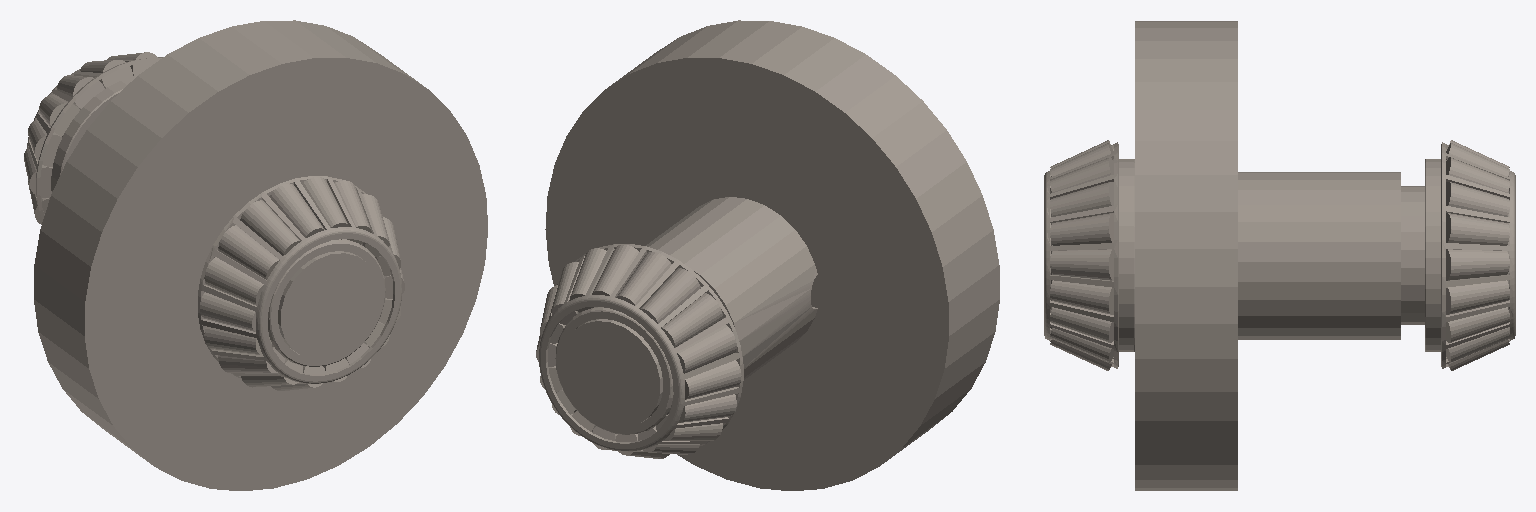
URDF robot description (smaller_shaft):
<?xml version="1.0" encoding="utf-8"?>
<!-- This URDF was automatically created by SolidWorks to URDF Exporter! Originally created by [author] ([email redacted]) 
     Commit Version: 1.6.0-1-g15f4949  Build Version: 1.6.7594.29634
     For more information, please see http://wiki.ros.org/sw_urdf_exporter -->
<robot
  name="smaller_shaft">
  <link
    name="base_link">
    <inertial>
      <origin
        xyz="2.0203E-05 0.03832 3.0078E-05"
        rpy="0 0 0" />
      <mass
        value="2.0706" />
      <inertia
        ixx="0.001325"
        ixy="1.2436E-06"
        ixz="-3.6372E-07"
        iyy="0.0018368"
        iyz="-6.2121E-12"
        izz="0.0013249" />
    </inertial>
    <visual>
      <origin
        xyz="0 0 0"
        rpy="0 0 0" />
      <geometry>
        <mesh
          filename="package://smaller_shaft/meshes/base_link.STL" />
      </geometry>
      <material
        name="">
        <color
          rgba="0.65098 0.61961 0.58824 1" />
      </material>
    </visual>
    <collision>
      <origin
        xyz="0 0 0"
        rpy="0 0 0" />
      <geometry>
        <mesh
          filename="package://smaller_shaft/meshes/base_link.STL" />
      </geometry>
    </collision>
  </link>
</robot>

--- Facts derived from the render (not from the file) ---
3 views of the same robot in one strip: view 1: azimuth 30°, elevation 25°; view 2: azimuth 150°, elevation 25°; view 3: azimuth 270°, elevation 25° (orthographic).
Robot: smaller_shaft — 1 links, 0 joints (none); root link base_link; default pose: all joints at 0.
Links seen in each view (by area): view 1: base_link; view 2: base_link; view 3: base_link.
Boxes of the visible links, box(x1,y1,x2,y2) form: base_link: box(24, 20, 487, 490); base_link: box(536, 20, 999, 490); base_link: box(1044, 21, 1515, 490).
Bounding box of the posed robot: 0.1006 × 0.101 × 0.1006 m (x, y, z).
1 mesh visuals loaded from 1 distinct referenced files (1 binary STL).